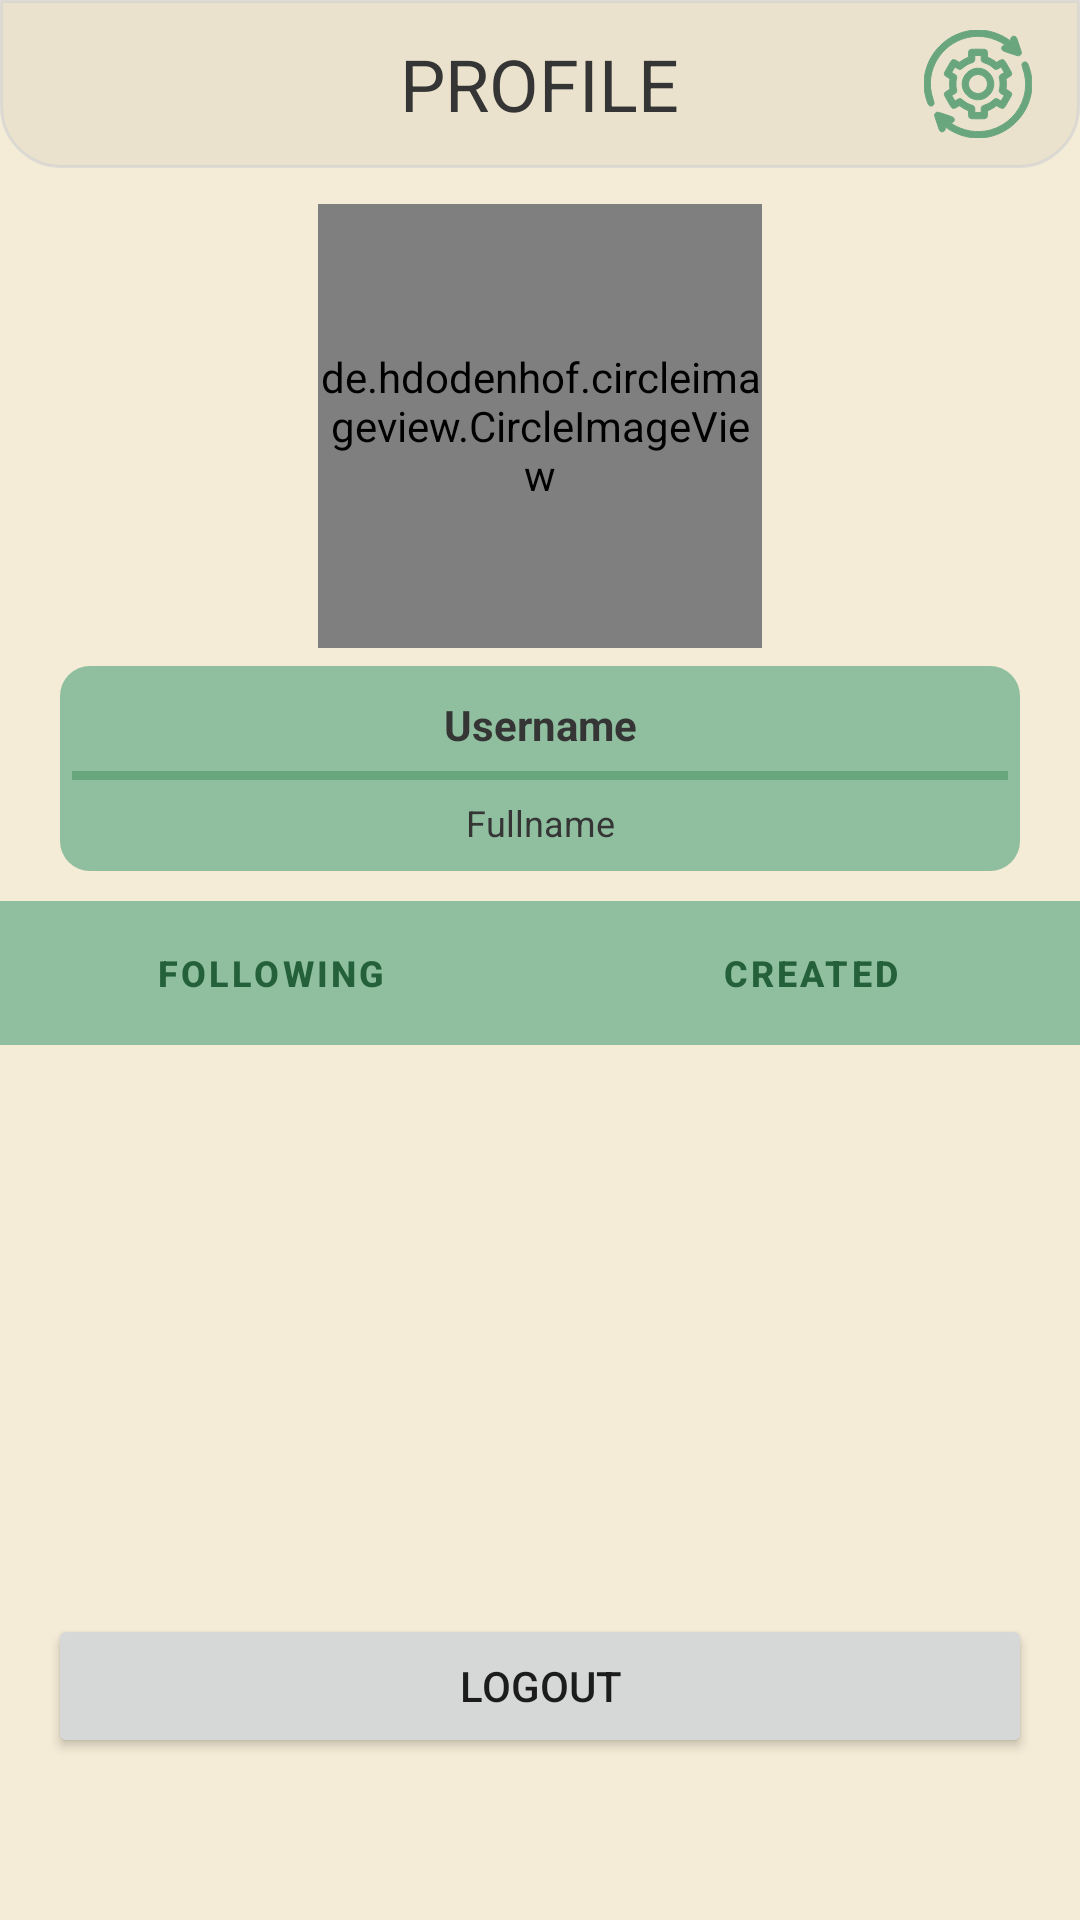

Locate icon controls on the screen. Image size 1080px x 1920px, boxes as box=[x1, y1, x2, y2].
update: box=[924, 30, 1032, 138]
